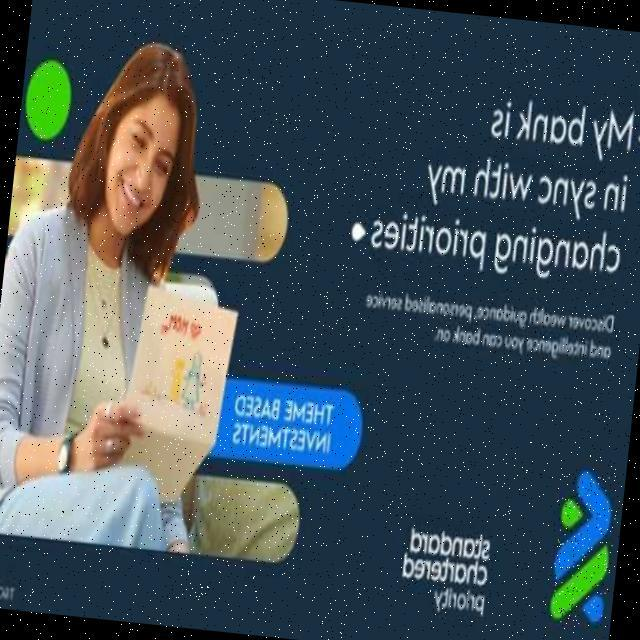Standard Chartered: (548, 470, 620, 627)
